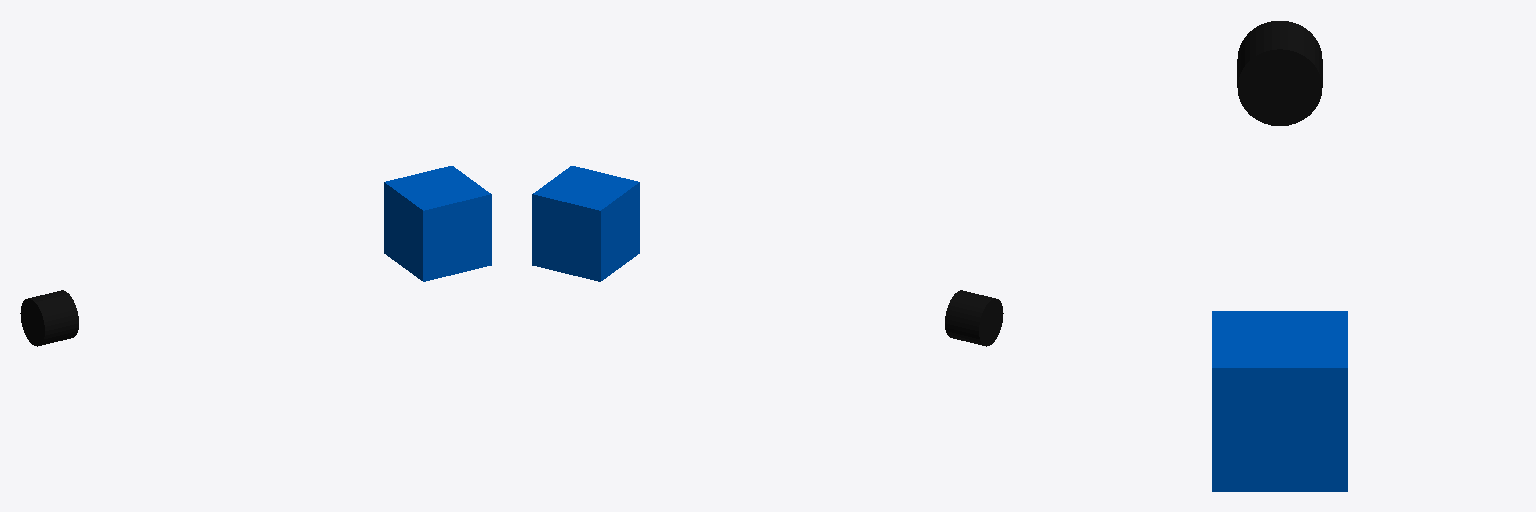
robot.urdf — robot_c:
<?xml version="1.0"?>

<robot name="robot_c">

  <!-- Color of materials -->
  <material name="Blue">
    <color rgba="0 0.4 0.8 1"/>
  </material>
  <material name="Red">
    <color rgba="1 0 0 1"/>
  </material>
  <material name="Green">
    <color rgba="0 1 0 1"/>
  </material>
  <material name="Yellow">
    <color rgba="1 1 0 1"/>
  </material>
  <material name="White">
    <color rgba="1.1 1.1 1.1 1"/>
  </material>
  <material name="Black">
    <color rgba="0.1 0.1 0.1 1"/>
  </material>
  <material name="Grey">
        <color rgba="0.5 0.5 0.5 1.0"/>
  </material>

  <link name="base_link">
        <visual>
            <geometry>
                <box size="0.8 0.8 0.8"/>
            </geometry>
            <origin rpy="0 0 0" xyz="0 0 0"/>
            <material name="Blue" />
        </visual>
        <collision>
            <geometry>
                <box size="0.8 0.8 0.8"/>
            </geometry>
            <origin rpy="0 0 0" xyz="0 0 0"/>
            <material name="Blue" />
        </collision>
        <inertial>
            <mass value="3" />
            <inertia ixx="6.905" ixy="0.82" ixz="0.0" iyy="3.99" iyz="0.0" izz="6.58" />
        </inertial>
    </link>

    <joint name="base-0_joint" type="revolute">
        <parent link="base_link"/>
        <child link="0_link"/>
        <origin rpy="0 0 1.5708" xyz="-0.125 0 0"/>
        <axis xyz="0 1 0 " />
        <limit effort="300" velocity="0.1" lower="-1.5" upper="1.9"/>
        <dynamics damping="50" friction="1"/>
    </joint>

    <link name="0_link">
        <visual>
            <geometry>
                <mesh filename="package://lab2/manorobot/hombro1v3.stl"
                 scale="0.08 0.08 0.08" />
            </geometry>
            <origin rpy="0 -1.5708 0" xyz="0 0.275 0"/>
            <material name="Black" />
        </visual>
        <collision>
            <geometry>
                <mesh filename="package://lab2/manorobot/hombro1v3.stl"
                 scale="0.08 0.08 0.08" />
            </geometry>
            <origin rpy="0 -1.5708 0" xyz="0 0.275 0"/>
            <material name="Black" />
        </collision>
        <inertial>
         <mass value="1.05" />
         <inertia ixx="6.905" ixy="0.82" ixz="0.0" iyy="3.99" iyz="0.0" izz="6.58" />
        </inertial>
    </link>
    <gazebo reference="0_link">
        <material>Gazebo/Black</material>
    </gazebo>

    <joint name="0-1_joint" type="revolute">
        <parent link="0_link"/>
        <child link="1_link"/>
        <origin rpy="0 0 0" xyz="0 0.55 0" />
        <axis xyz="0 0 1" />
        <limit effort="300" velocity="0.1" lower="-1" upper="1"/>
        <dynamics damping="50" friction="1"/>
    </joint>

    <link name="1_link">
        <visual>
            <geometry>
               <mesh filename="package://lab2/manorobot/hombro2v6.stl"
                 scale="0.08 0.08 0.08" />
            </geometry>
            <origin rpy="0 -4.71239 3.1415" xyz="0 1 0"/>
            <material name="White" />
        </visual>
        <collision>
            <geometry>
                <mesh filename="package://lab2/manorobot/hombro2v6.stl"
                 scale="0.08 0.08 0.08"/>
            </geometry>
            <origin rpy="0 -4.71239 3.1415" xyz="0 1 0"/>
            <material name="White"/>
        </collision>
        <inertial>
         <mass value="1.553" />
         <inertia ixx="19.69" ixy="2.25" ixz="0.40" iyy="6.09" iyz="-1.97" izz="19.58" />
        </inertial>
    </link>
    <gazebo reference="1_link">
        <material>Gazebo/White</material>
    </gazebo>

    <joint name="1-2_joint" type="revolute">
        <parent link="1_link"/>
        <child link="2_link"/>
        <origin rpy="0 0 0" xyz="0 0.68 0"/>
        <axis xyz="1 0 0" />
        <limit effort="300" velocity="0.1" lower="-1.75" upper="1.75"/>
        <dynamics damping="50" friction="1"/>
    </joint>

    <link name="2_link">
        <visual>
            <geometry>
                <mesh filename="package://lab2/manorobot/brazo1v2.stl"
                    scale="0.08 0.08 0.08" />
            </geometry>
            <origin rpy="0 3.1415 3.1415" xyz="0 1.8 0"/>
            <material name="Grey" />
        </visual>
        <collision>
            <geometry>
                <mesh filename="package://lab2/manorobot/brazo1v2.stl"
                    scale="0.08 0.08 0.08" />
            </geometry>
            <origin rpy="0 3.1415 3.1415" xyz="0 1.8 0"/>
            <material name="Grey" />
        </collision>
        <inertial>
         <mass value="3.995" />
         <inertia ixx="89.92" ixy="61.25" ixz="10.30" iyy="71.41" iyz="-12.32" izz="141.58" />
        </inertial>
    </link>
    <gazebo reference="2_link">
        <material>Gazebo/Grey</material>
    </gazebo>


    <joint name="2-4_joint" type="revolute">
        <parent link="2_link"/>
        <child link="4_link"/>
        <origin rpy="0 0 0" xyz="0 1.6 0"/>
        <axis xyz="1 0 0" />
        <limit effort="300" velocity="0.1" lower="-1.1" upper="1.85"/>
        <dynamics damping="50" friction="1"/> 
    </joint>

    <link name="4_link">
        <visual>
            <geometry>
                <mesh filename="package://lab2/manorobot/antebrazo1v3.stl"
                    scale="0.08 0.08 0.08" />
            </geometry>
            <origin rpy="3.1415 0 0" xyz="0 1.7 0"/>
            <material name="White" />
        </visual>
        <collision>
            <geometry>
                <mesh filename="package://lab2/manorobot/antebrazo1v3.stl"
                    scale="0.08 0.08 0.08" />
            </geometry>
            <origin rpy="1.5708 0 0" xyz="0 1.7 0"/>
            <material name="White" />
        </collision>
        <inertial>
            <mass value="4.673" />
            <inertia ixx="196.77" ixy="18.68" ixz="4.70" iyy="33.48" iyz="-41.77" izz="188.74" />
        </inertial>
    </link>
    <gazebo reference="4_link">
        <material>Gazebo/White</material>
    </gazebo>

    <joint name="4-5_joint" type="revolute">
        <parent link="4_link"/>
        <child link="5_link"/>
        <origin rpy="0 0 0" xyz="0 1.6 0"/>
        <axis xyz="0 1 0" />
        <limit effort="300" velocity="0.1" lower="-1.15" upper="1.15"/>
        <dynamics damping="50" friction="1"/>
    </joint>

    <link name="5_link">
        <visual>
        <geometry>
            <cylinder length="0.4" radius="0.25"/>
        </geometry>
        <origin rpy="1.5708 0 0" xyz="0 0 0"/>
        <material name="Black" />
        </visual>
        <collision>
            <geometry>
                <cylinder length="0.4" radius="0.25"/>
            </geometry>
            <origin rpy="1.5708 0 0" xyz="0 0 0"/>
            <material name="Black" />
        </collision>
        <inertial>
         <mass value="0.875" />
         <inertia ixx="5.27" ixy="-22.62" ixz="-15.65" iyy="2.96" iyz="-0.448" izz="4.72" />
        </inertial>
    </link>
    <gazebo reference="5_link">
        <material>Gazebo/Black</material>
    </gazebo>

    <joint name="5-6_joint" type="revolute">
        <parent link="5_link"/>
        <child link="mesh_6_link"/>
        <origin rpy="0 0 0" xyz="0 0.2 0"/>
        <axis xyz="0 0 1" />
        <limit effort="300" velocity="0.1" lower="-1.25" upper="1.25"/>
        <dynamics damping="50" friction="1"/>
    </joint>
    

    <link name="mesh_6_link">
        <inertial>
            <origin rpy="0 0 0" xyz="0 0.275 0"/>
            <mass value="1.17563" />
            <inertia ixx="0.3615" ixy="0" ixz="-0.00681" iyy="0.4962" iyz="-0" izz="0.49" />
        </inertial>

        <visual>
            <origin rpy="3.1416 1.5708 0" xyz="0 0.275 0"/>
            <geometry>
                <mesh filename="package://lab2/manorobot/mano.dae"
                 scale="0.01 0.01 0.01" />
            </geometry>
        </visual>
        <collision>
            <origin rpy="0 0 0" xyz="0 0.275 0"/>
            <geometry>
                <mesh filename="package://lab2/manorobot/mano.dae"
                 scale="0.01 0.01 0.01" />
            </geometry>
        </collision>
   </link>
   
       
    <!-- Transmissions-->
    <transmission name="tran1">
        <type>transmission_interface/SimpleTransmission</type>
        <joint name="base-0_joint">
        <hardwareInterface>hardware_interface/EffortJointInterface</hardwareInterface>
        </joint>
        <actuator name="motor1">
        <hardwareInterface>hardware_interface/EffortJointInterface</hardwareInterface>
        <mechanicalReduction>1</mechanicalReduction>
        </actuator>
    </transmission>

    <transmission name="tran2">
        <type>transmission_interface/SimpleTransmission</type>
        <joint name="0-1_joint">
        <hardwareInterface>hardware_interface/EffortJointInterface</hardwareInterface>
        </joint>
        <actuator name="motor2">
        <hardwareInterface>hardware_interface/EffortJointInterface</hardwareInterface>
        <mechanicalReduction>1</mechanicalReduction>
        </actuator>
    </transmission>

    <transmission name="tran3">
        <type>transmission_interface/SimpleTransmission</type>
        <joint name="1-2_joint">
        <hardwareInterface>hardware_interface/EffortJointInterface</hardwareInterface>
        </joint>
        <actuator name="motor3">
        <hardwareInterface>hardware_interface/EffortJointInterface</hardwareInterface>
        <mechanicalReduction>1</mechanicalReduction>
        </actuator>
    </transmission>

    <transmission name="tran4">
        <type>transmission_interface/SimpleTransmission</type>
        <joint name="2-4_joint">
        <hardwareInterface>hardware_interface/EffortJointInterface</hardwareInterface>
        </joint>
        <actuator name="motor4">
        <hardwareInterface>hardware_interface/EffortJointInterface</hardwareInterface>
        <mechanicalReduction>1</mechanicalReduction>
        </actuator>
    </transmission>

    <transmission name="tran5">
        <type>transmission_interface/SimpleTransmission</type>
        <joint name="4-5_joint">
        <hardwareInterface>hardware_interface/EffortJointInterface</hardwareInterface>
        </joint>
        <actuator name="motor5">
        <hardwareInterface>hardware_interface/EffortJointInterface</hardwareInterface>
        <mechanicalReduction>1</mechanicalReduction>
        </actuator>
    </transmission>

    <transmission name="tran6">
        <type>transmission_interface/SimpleTransmission</type>
        <joint name="5-6_joint">
        <hardwareInterface>hardware_interface/EffortJointInterface</hardwareInterface>
        </joint>
        <actuator name="motor6">
        <hardwareInterface>hardware_interface/EffortJointInterface</hardwareInterface>
        <mechanicalReduction>1</mechanicalReduction>
        </actuator>
    </transmission>
    
    <gazebo reference="base-0_joint">
        <selfCollide>true</selfCollide>
    </gazebo>
    <gazebo reference="0-1_joint">
        <selfCollide>true</selfCollide>
    </gazebo>
    <gazebo reference="1-2_joint">
        <selfCollide>true</selfCollide>
    </gazebo>
    <gazebo reference="2-4_joint">
        <selfCollide>true</selfCollide>
    </gazebo>
    <gazebo reference="4-5_joint">
        <selfCollide>true</selfCollide>
    </gazebo>
    <gazebo reference="5-6_joint">
        <selfCollide>true</selfCollide>
    </gazebo>
    
        <!-- ROS base_link to UR 'Base' Coordinates transform -->
    <link name="base"/>
    <joint name="base_link-base_fixed_joint" type="fixed">
        <!-- NOTE: this rotation is only needed as long as base_link itself is
                    not corrected wrt the real robot (ie: rotated over 180
                    degrees)
        -->
        <origin rpy="0 0 1.5708" xyz="0 0 0"/>
        <parent link="base_link"/>
        <child link="base"/>
    </joint>
    
    <!-- <link name="world"/> -->
    <link name="world">
        <inertial>
        <mass value="0.0000001"/>
        <origin rpy="0 0 0" xyz="0.0 0.0 0.0"/>
        <inertia ixx="0.0000001" ixy="0.0" ixz="0.0" iyy="0.0000001" iyz="0.0" izz="0.0000001"/>
        </inertial>
    </link>
        
    <joint name="world_joint" type="fixed">
        <parent link="world"/>
        <child link="base_link"/>
        <origin rpy="0.0 0.0 0.0" xyz="0.0 0.0 0.0"/>
    </joint>


</robot>

--- Render facts (derived) ---
The picture shows the robot from 3 angles, left to right: view 1: azimuth 30°, elevation 25°; view 2: azimuth 150°, elevation 25°; view 3: azimuth 270°, elevation 25°; orthographic projection.
Robot: robot_c — 9 links, 8 joints (6 revolute, 2 fixed); root link world; default pose: every joint at zero.
Links seen in each view (by area): view 1: base_link, 5_link; view 2: base_link, 5_link; view 3: base_link, 5_link.
Link boxes in pixels (x1,y1,x2,y2): base_link: [384, 166, 491, 281]; 5_link: [20, 290, 78, 346]; base_link: [532, 166, 639, 281]; 5_link: [945, 290, 1003, 346]; base_link: [1212, 311, 1347, 491]; 5_link: [1237, 21, 1322, 125].
Bounding box of the posed robot: 5.16 × 0.8 × 0.8 m (x, y, z).
Meshes: 5 distinct files referenced, 0 mesh visuals loaded (none loaded); not drawn: 5 (reference not matched to a file when rendering).